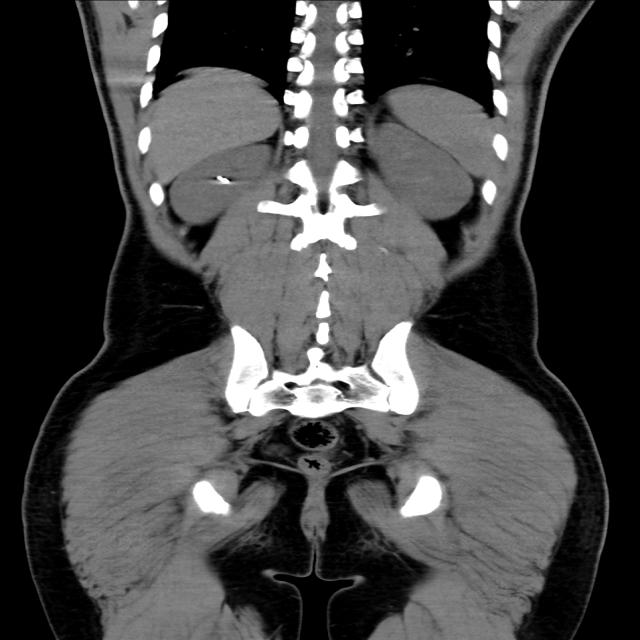kidneystone: (216, 175, 231, 184)
